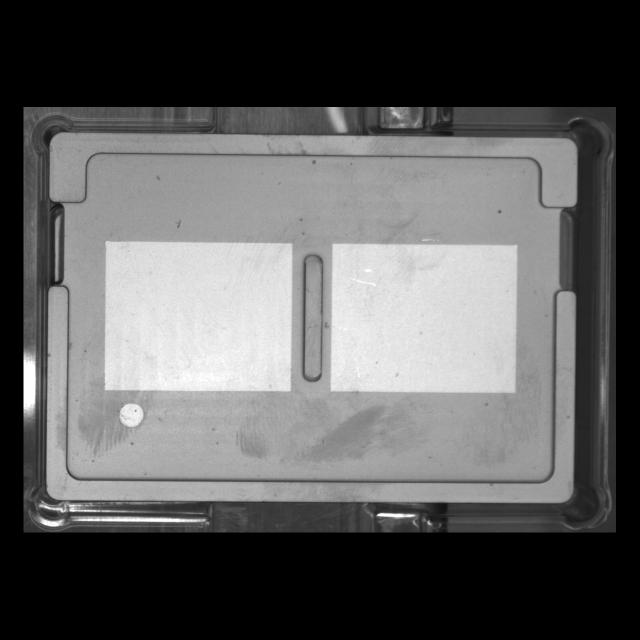door: (39, 119, 587, 219)
point: (110, 397, 152, 435)
